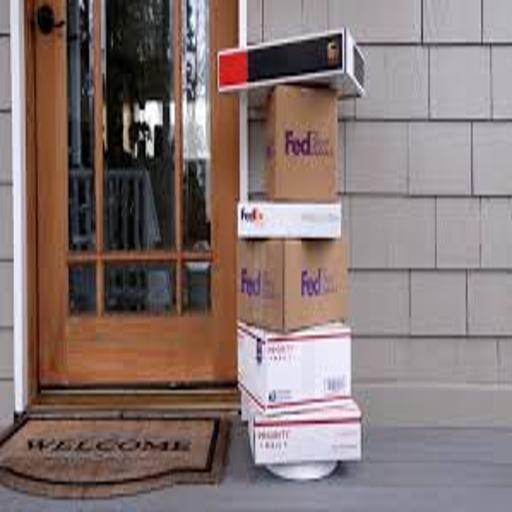FedEx: (261, 82, 346, 204), (240, 238, 351, 329), (238, 204, 345, 244)
